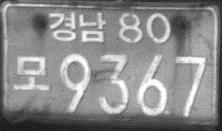0: (144, 10, 172, 46)
3: (96, 52, 132, 116)
6: (134, 53, 168, 117)
7: (172, 53, 208, 118)
8: (117, 10, 144, 43)
9: (57, 51, 91, 113)
경남_O: (46, 9, 109, 45)
모: (10, 54, 51, 92)
